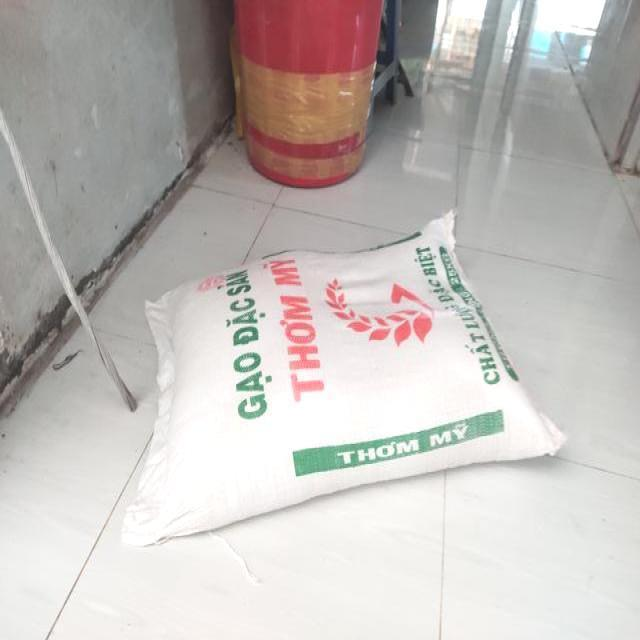gunny_bag: (123, 211, 566, 546)
